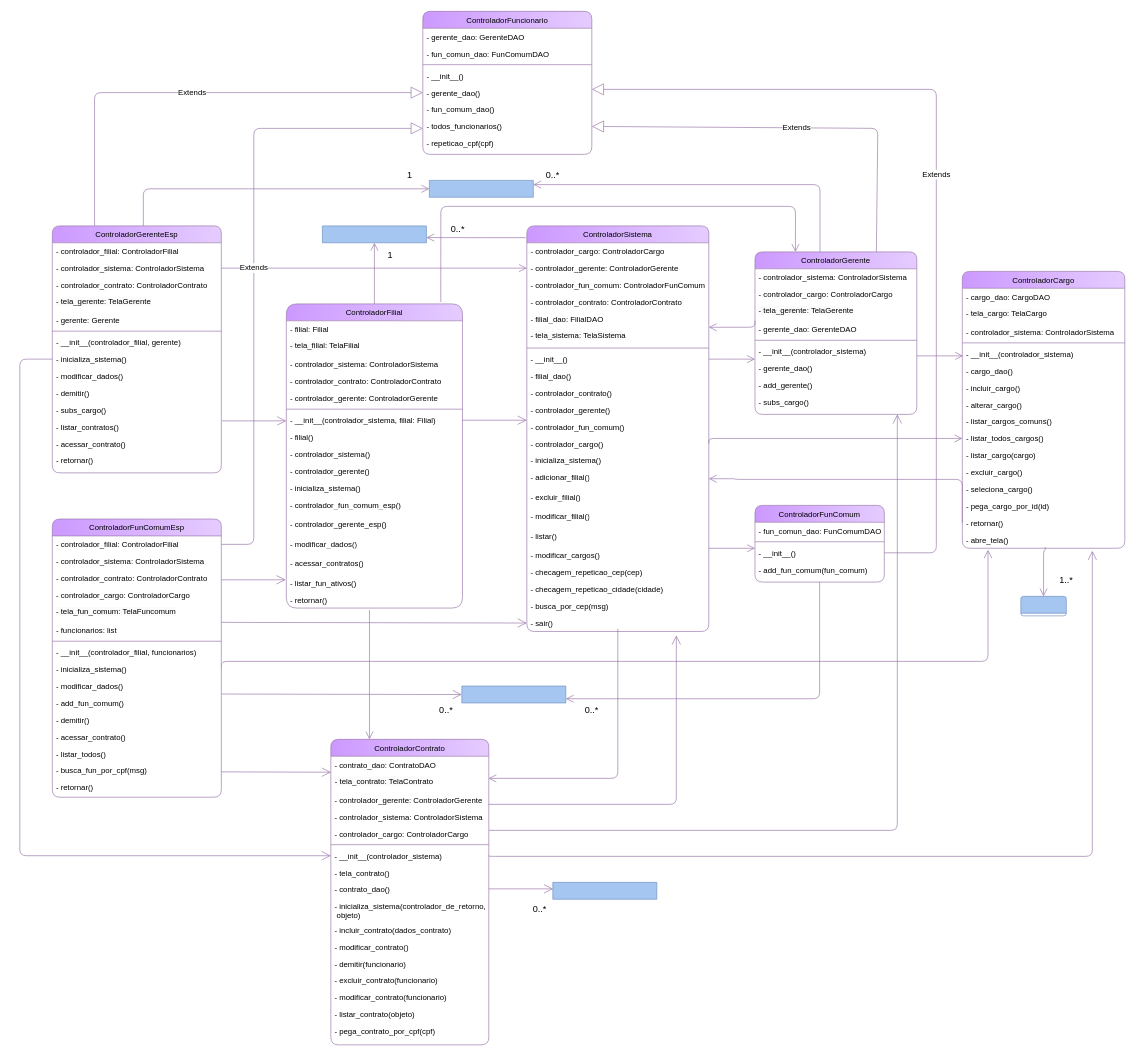
The diagram is 1136 pixels wide and 1056 high, and some of its shapes have lost their labels. The shapes that lost their labels are listed below. From the top down, each one's centre as x and y in pixels, then its label:
At [481,188]: "Gerente".
At [374,234]: "Filial".
At [1043,606]: "Cargo".
At [513,694]: "FunComum".
At [604,890]: "Contrato".
